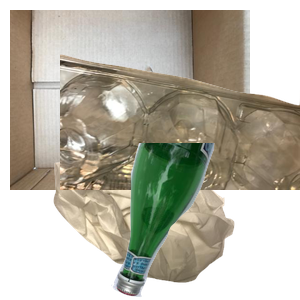cardboard: (10, 10, 250, 190)
glass: (109, 143, 300, 300)
plastic: (60, 52, 300, 232)
trash: (51, 142, 278, 300)
